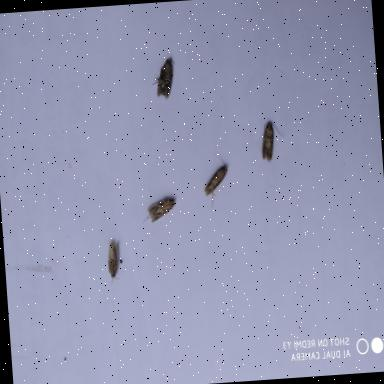pbw: (200, 150, 232, 212), (148, 54, 178, 100), (258, 118, 288, 164), (140, 194, 178, 224), (103, 237, 122, 286)
